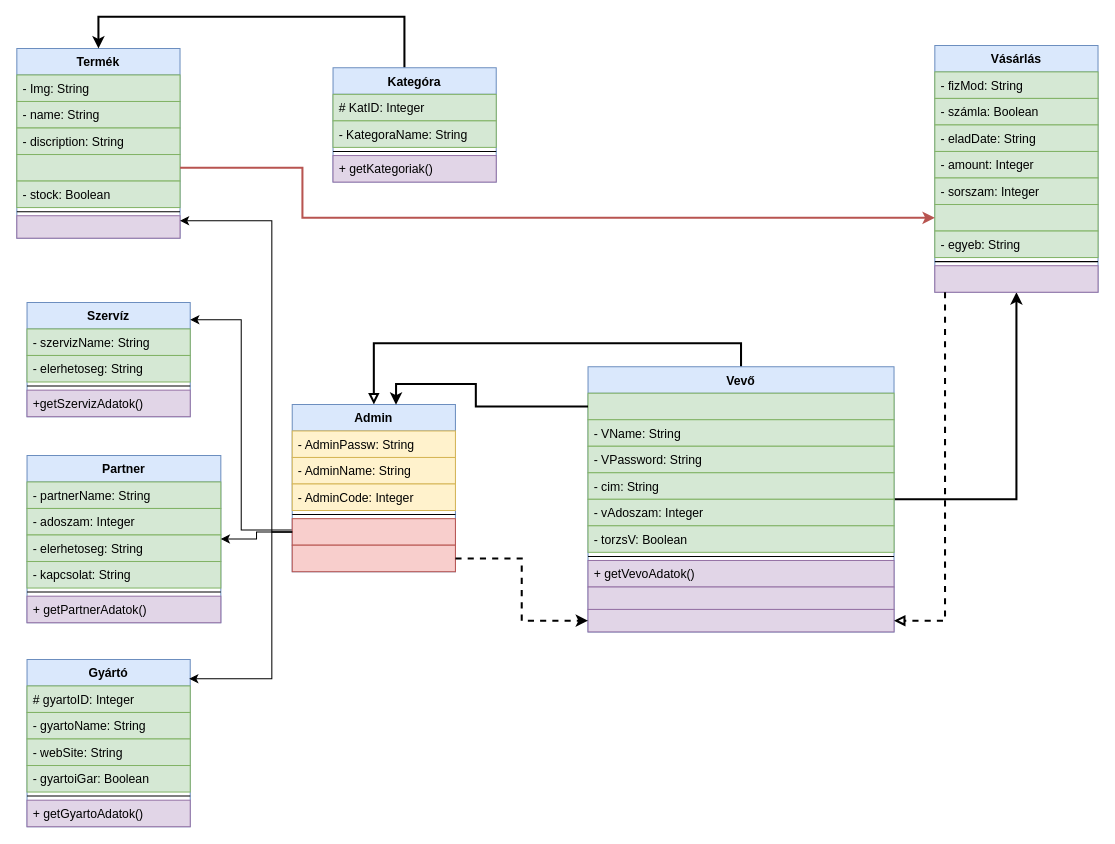
Some shapes in this 1115 by 844 pixel diagram are drawn without their labels. The centre of each missing label's shape, as x and y in pixels:
"# VID: Integer" belongs at (x=740, y=406).
"+ adminLogin" belongs at (x=373, y=558).
"+ getTermekAdatok()" belongs at (x=98, y=226).
"+ login()" belongs at (x=740, y=620).
"+ register()" belongs at (x=740, y=597).
"+ vasarlas()" belongs at (x=1016, y=278).
"- anyKonstruktor()" belongs at (x=373, y=531).
"- egysegAr: Integer" belongs at (x=1016, y=217).
"- price: Integer" belongs at (x=98, y=167).
